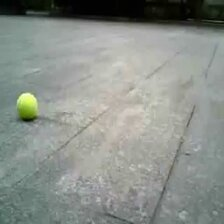tennis: (16, 93, 37, 117)
